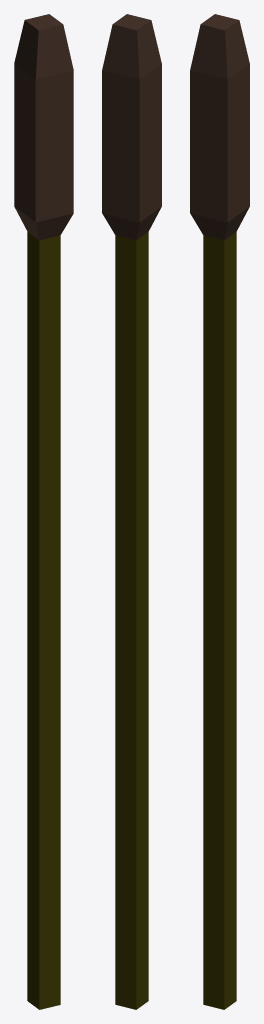
File: Reed Single.fbx
3 renders of one model, left to right at view 1: azimuth 30°, elevation 25°; view 2: azimuth 150°, elevation 25°; view 3: azimuth 330°, elevation 25°, orthographic.
Visible parts, largest first — view 1: Reed Single; view 2: Reed Single; view 3: Reed Single.
Boxes of the visible parts, bbox=[...] form: Reed Single: bbox=[14, 14, 73, 1009]; Reed Single: bbox=[102, 14, 161, 1009]; Reed Single: bbox=[190, 14, 249, 1009].
Bounding box in the file's own units: 0.1124 × 2.77 × 0.1124.
